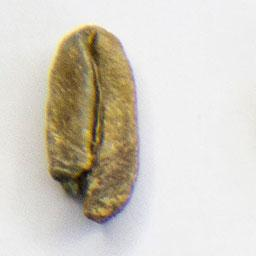defect: (43, 22, 143, 227)
